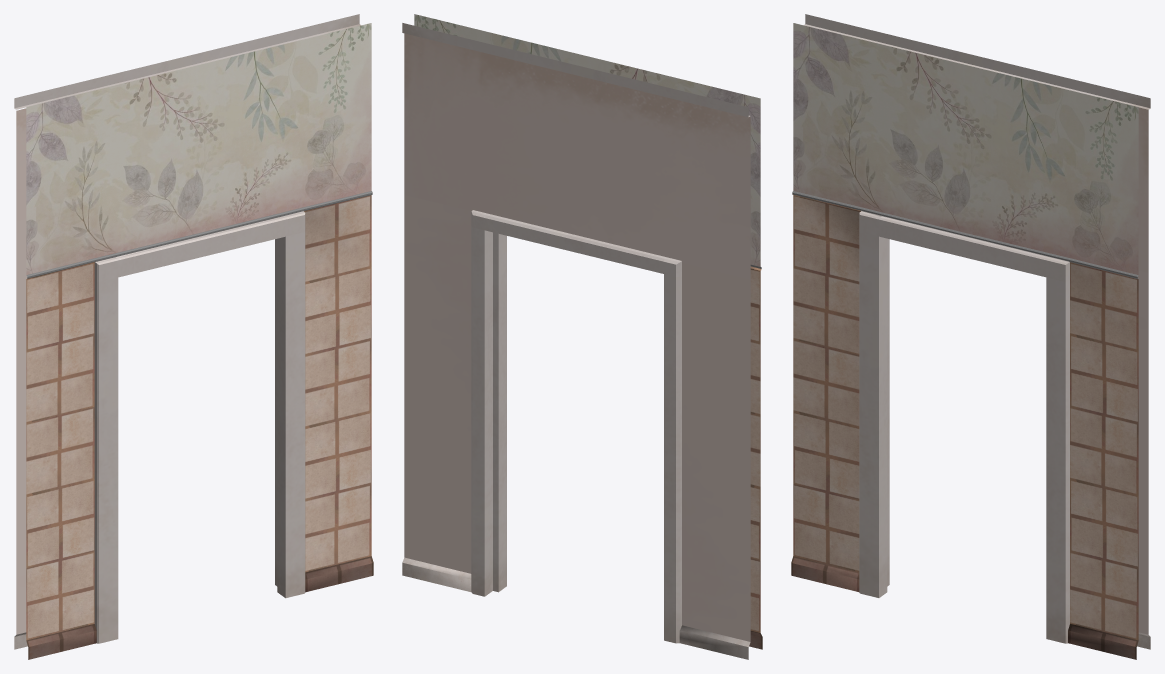
The model's file is MT_BR_Door.fbx.
The picture shows the model from 3 angles, left to right: view 1: azimuth 30°, elevation 25°; view 2: azimuth 150°, elevation 25°; view 3: azimuth 330°, elevation 25°; orthographic projection.
Visible parts, largest first — view 1: DoorWall; view 2: DoorWall; view 3: DoorWall.
Boxes of the visible parts, bbox=[...] form: DoorWall: bbox=[14, 14, 373, 659]; DoorWall: bbox=[402, 14, 762, 659]; DoorWall: bbox=[791, 14, 1150, 659].
Bounding box in the file's own units: 200 × 305 × 16.33.
